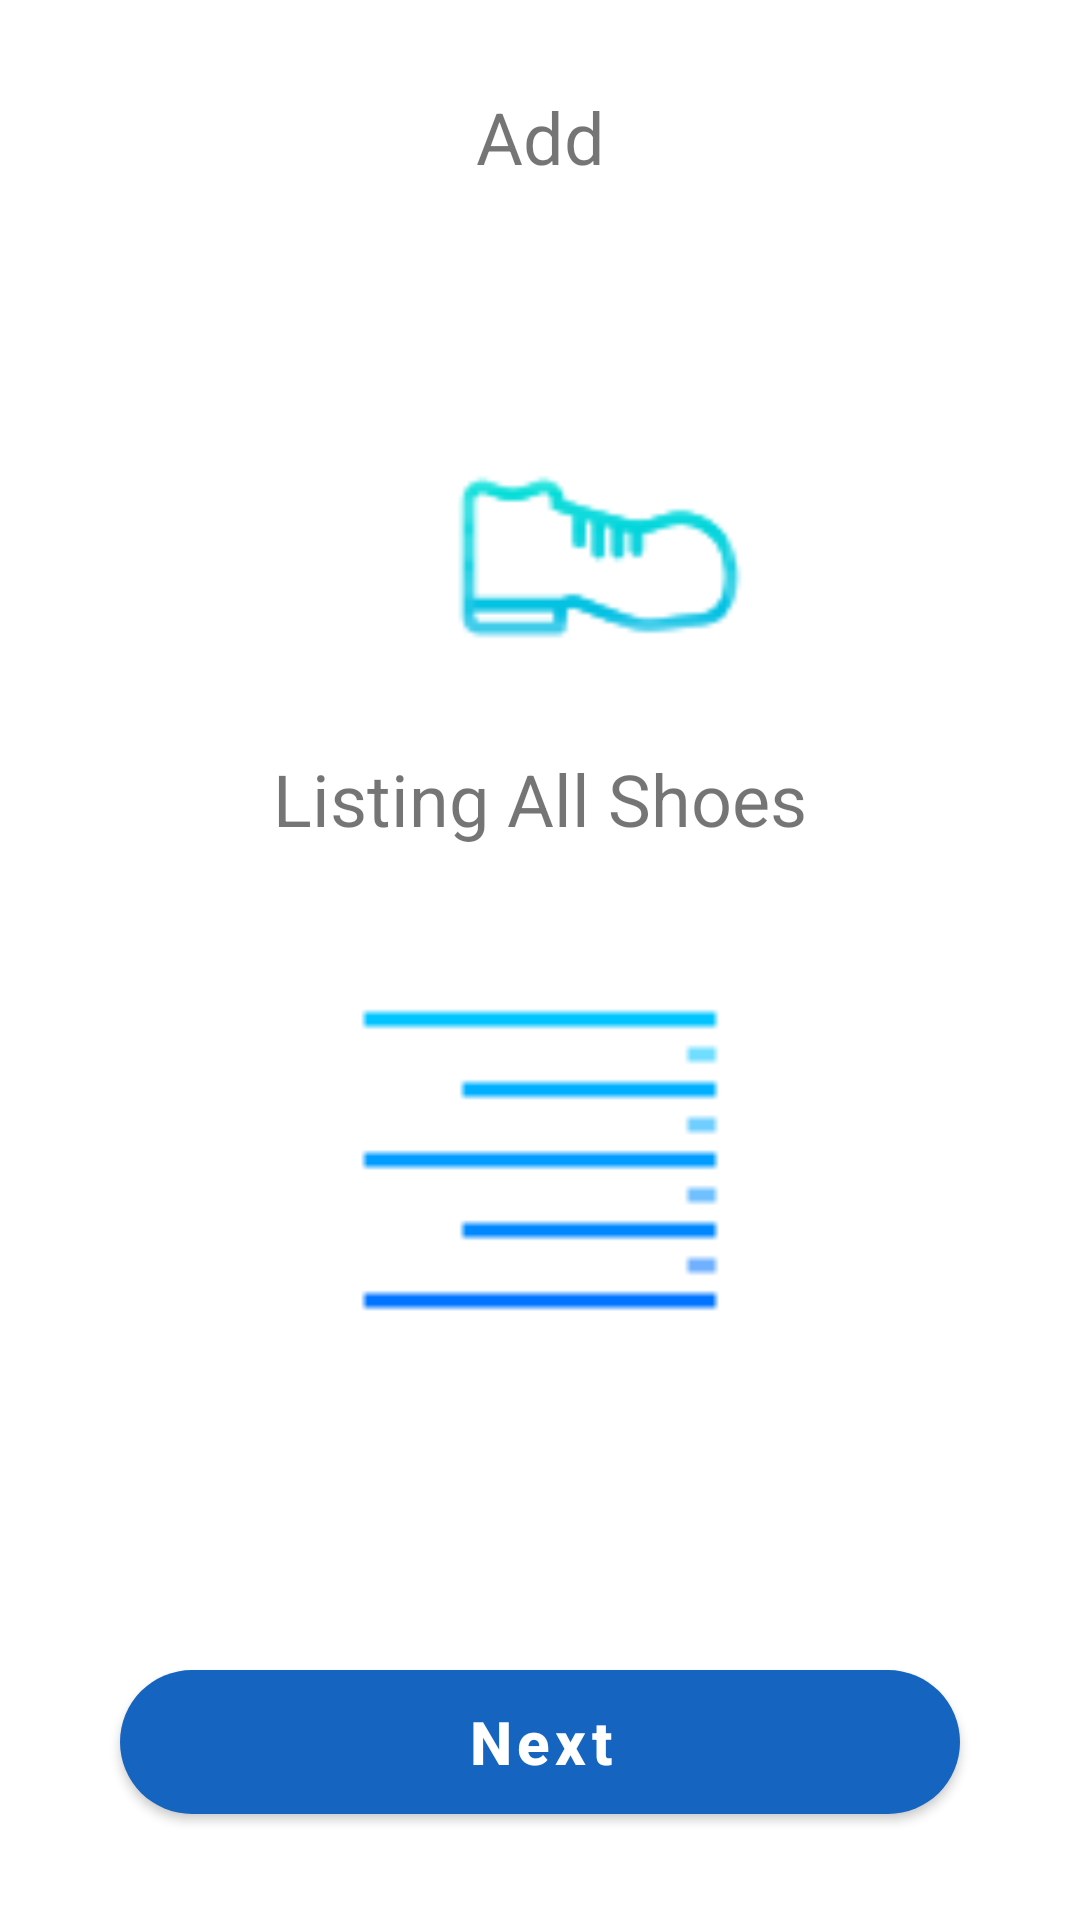

Icons on this 1080w x 1920h Android screen, each with its box as bbox(x1, y1, x2, y2):
align right: bbox(361, 1010, 719, 1310)
